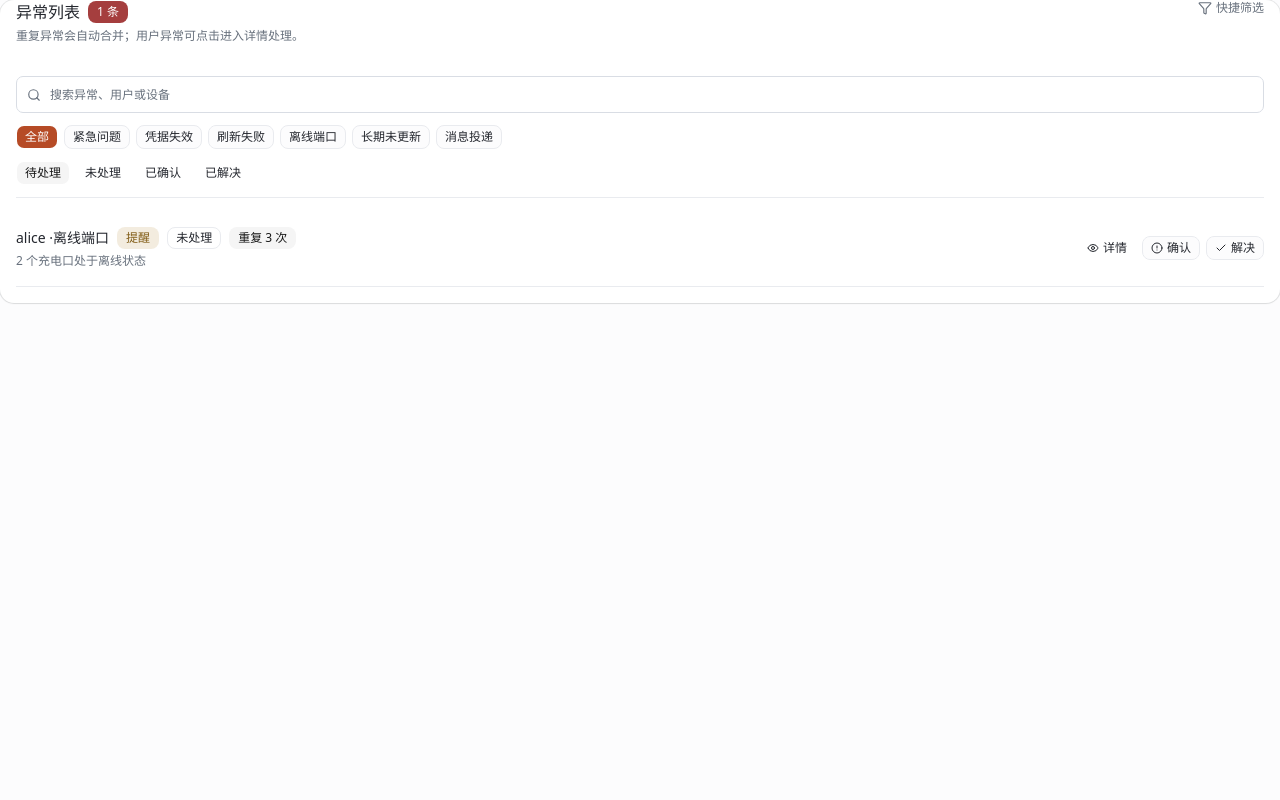
it: AdminIncidentPanel › opens the related user and records an acknowledgement note
Click the button "详情" at point(1107, 248), box [1078, 236, 1136, 260]
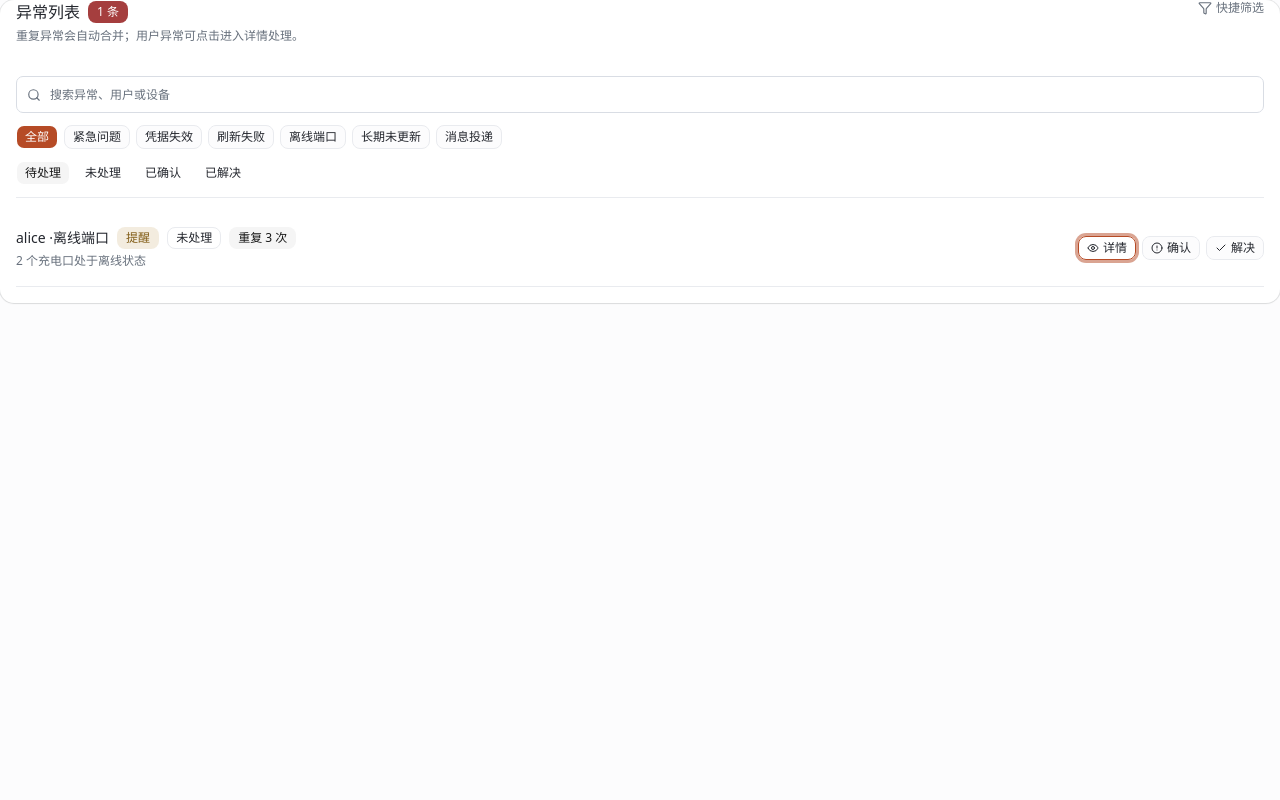
Click the button "确认" at point(1171, 248), box [1142, 236, 1200, 260]
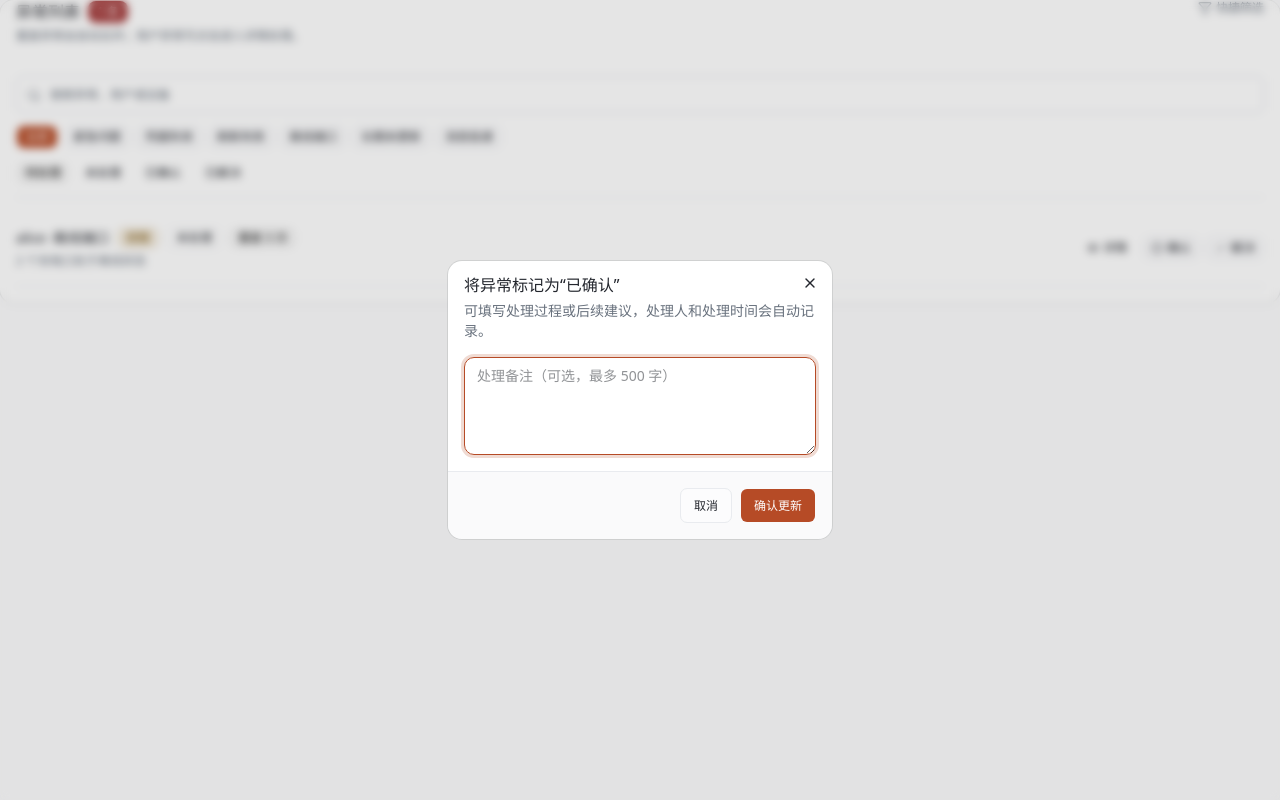
Type "已联系用户" into the text box with placeholder "处理备注（可选，最多 500 字）" at point(640, 406), box [464, 357, 816, 455]
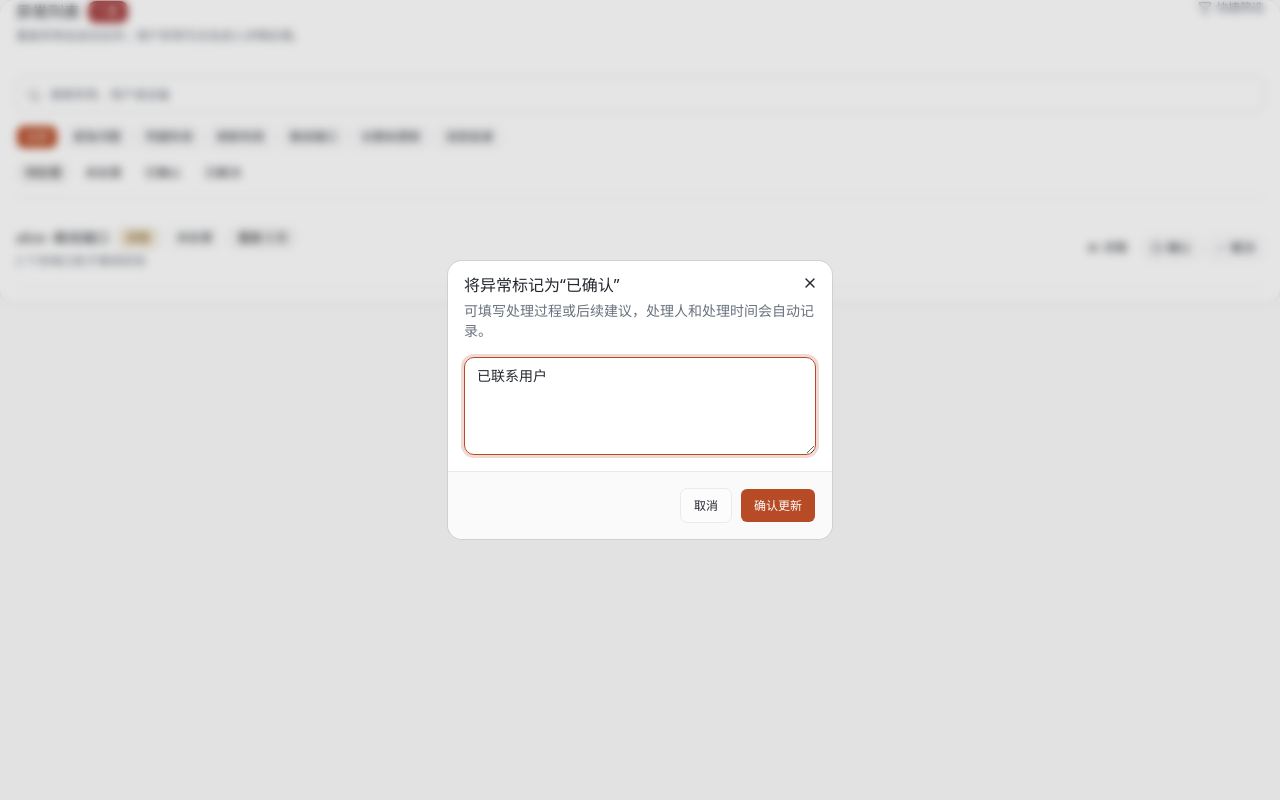
Click the button "确认更新" at point(778, 506), box [740, 488, 816, 523]
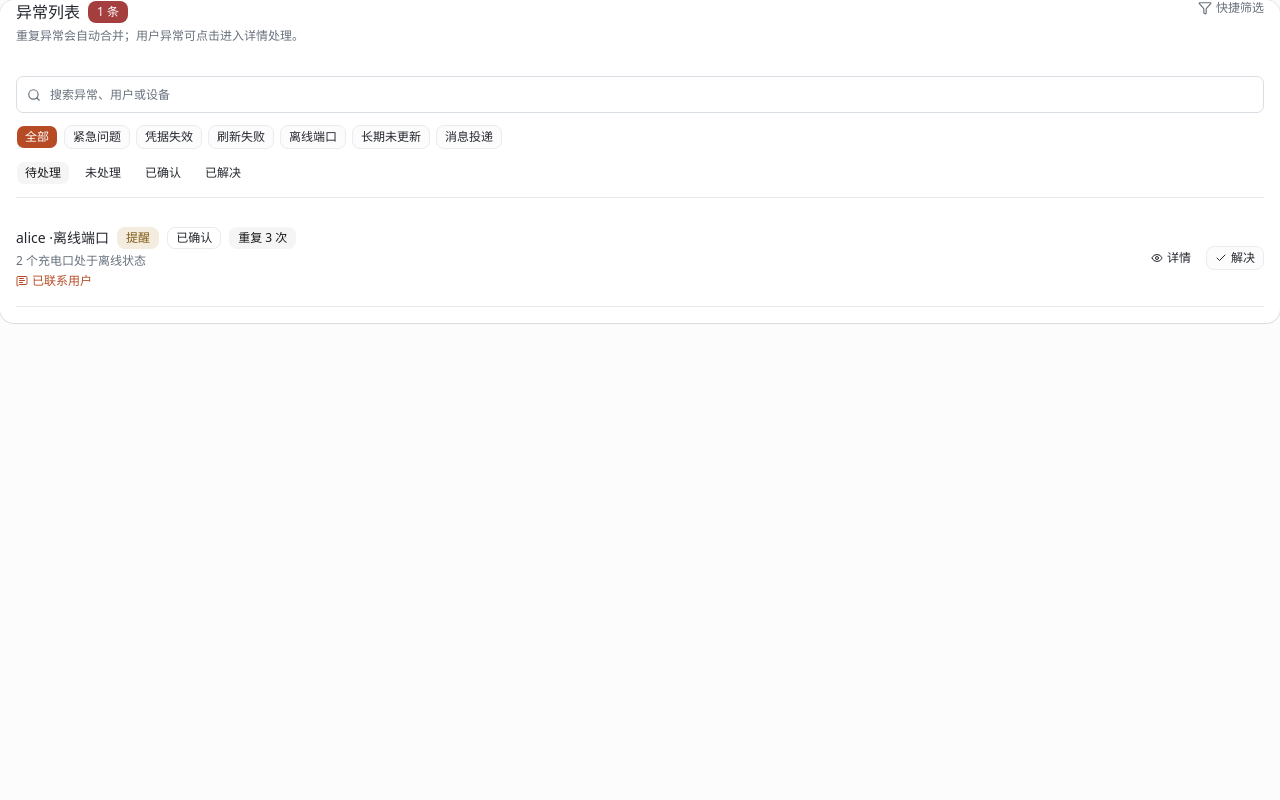
Expected: the text "已联系用户" is shown, [16, 272, 92, 289]
